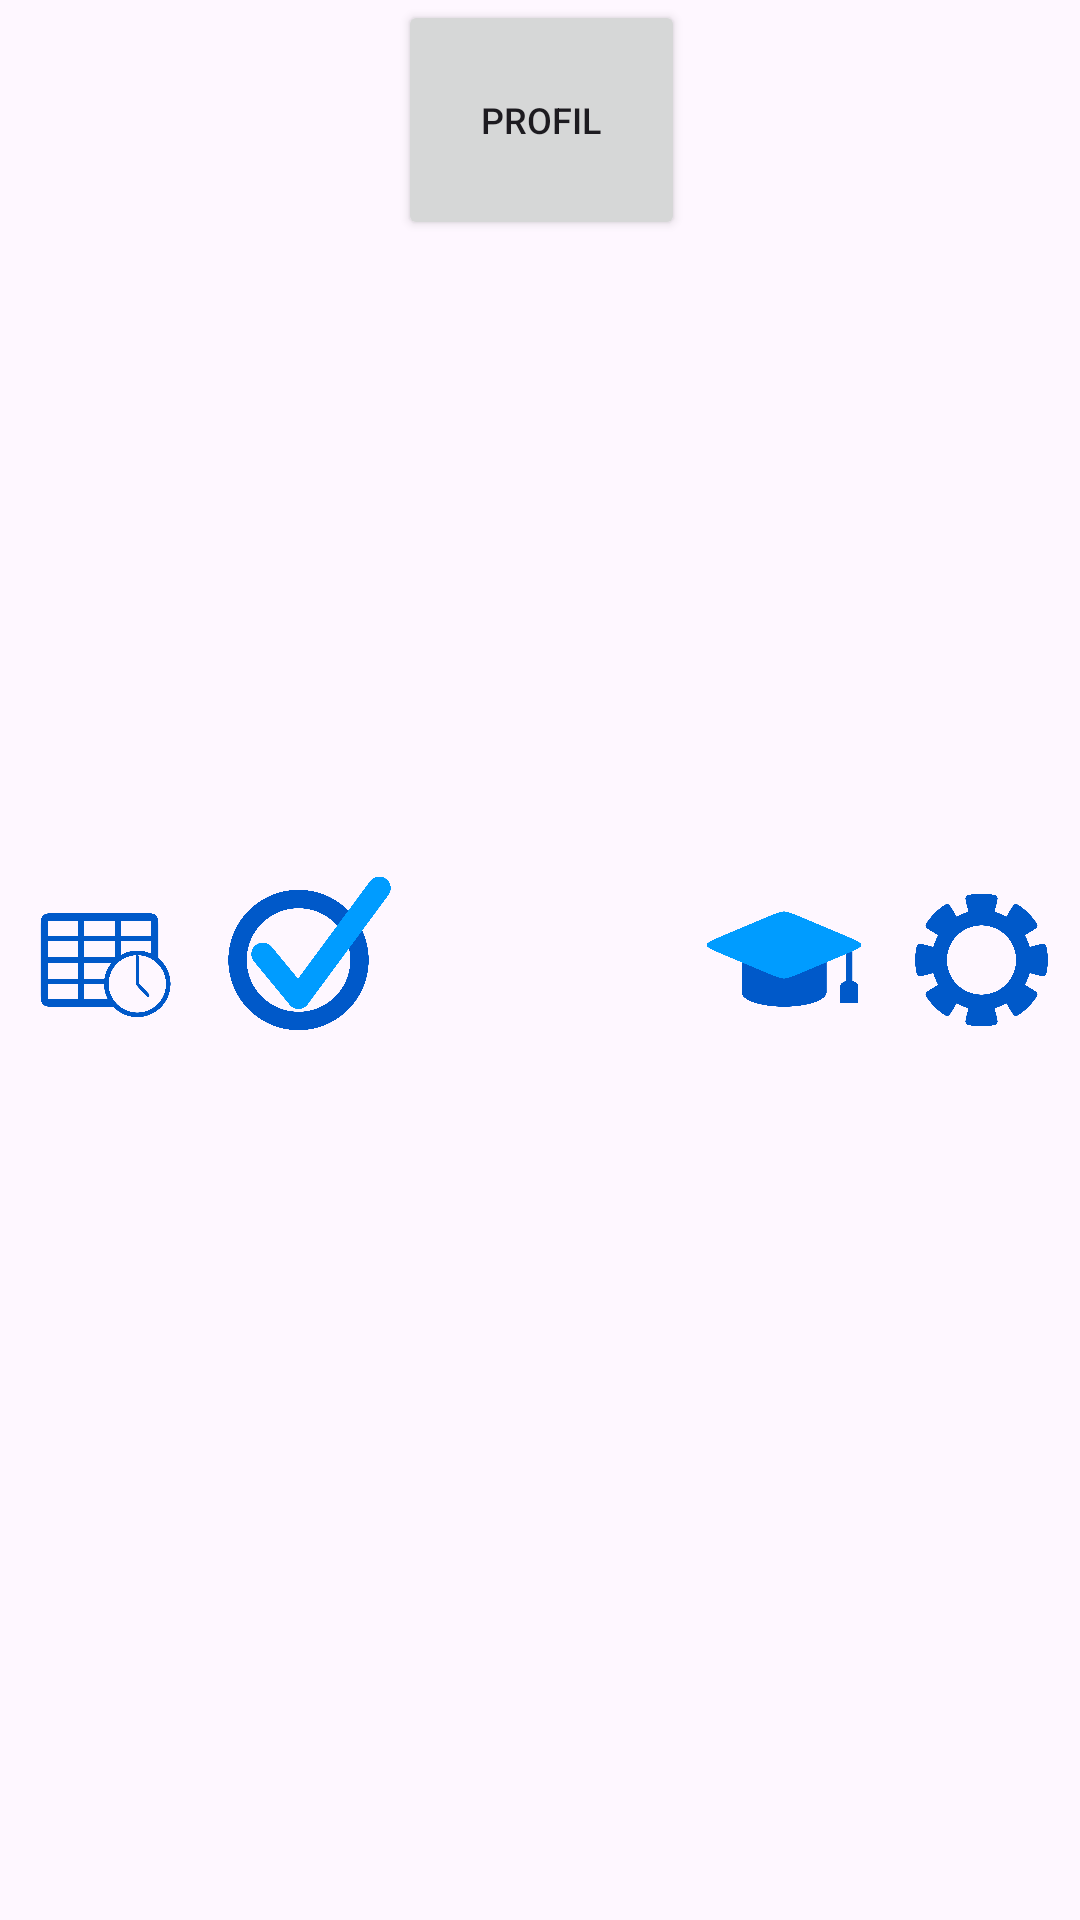

Icons on this 1080×1920 Android screen, each with its box as (x1, y1, x2, y2):
aufgabensymbol blau: (228, 877, 391, 1030)
radikon blau: (915, 894, 1048, 1026)
stundenplanikon blau: (40, 913, 171, 1017)
